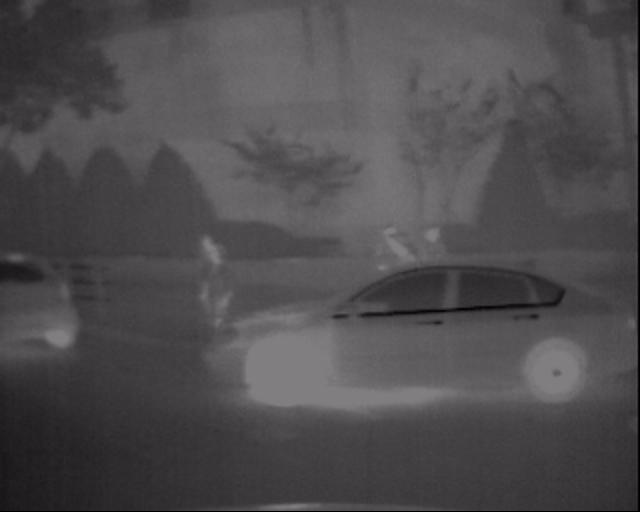person: (378, 211, 437, 362), (188, 231, 261, 347), (189, 222, 248, 344), (416, 212, 466, 323)
